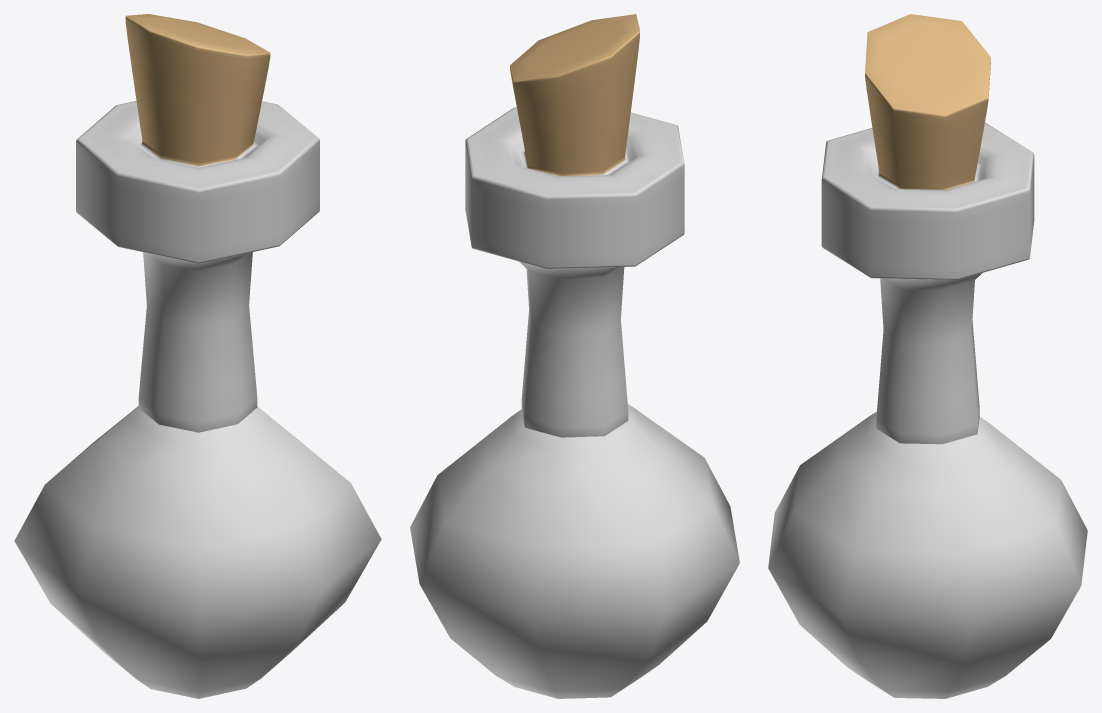
The model's file is smallBottle.fbx.
The picture shows the model from 3 angles, left to right: view 1: azimuth 30°, elevation 25°; view 2: azimuth 150°, elevation 25°; view 3: azimuth 270°, elevation 25°; orthographic projection. The views are drawn at different scales.
Visible parts, largest first — view 1: smallBottle; view 2: smallBottle; view 3: smallBottle.
Part boxes in pixels (box(x1,y1,x2,y2)): smallBottle: box(14, 14, 381, 698); smallBottle: box(410, 14, 739, 698); smallBottle: box(768, 14, 1087, 698).
Size of the model in its own units: 0.888 by 1.94 by 0.888.
